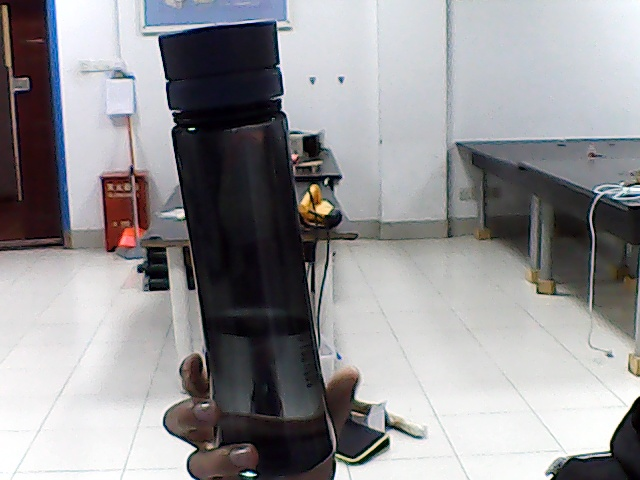cup: (182, 34, 287, 238)
